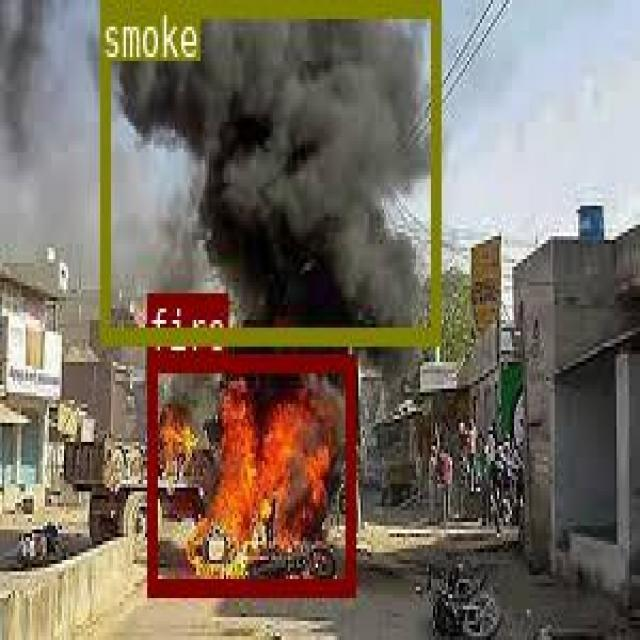fire: (146, 352, 354, 592)
smoke: (100, 0, 439, 339)
